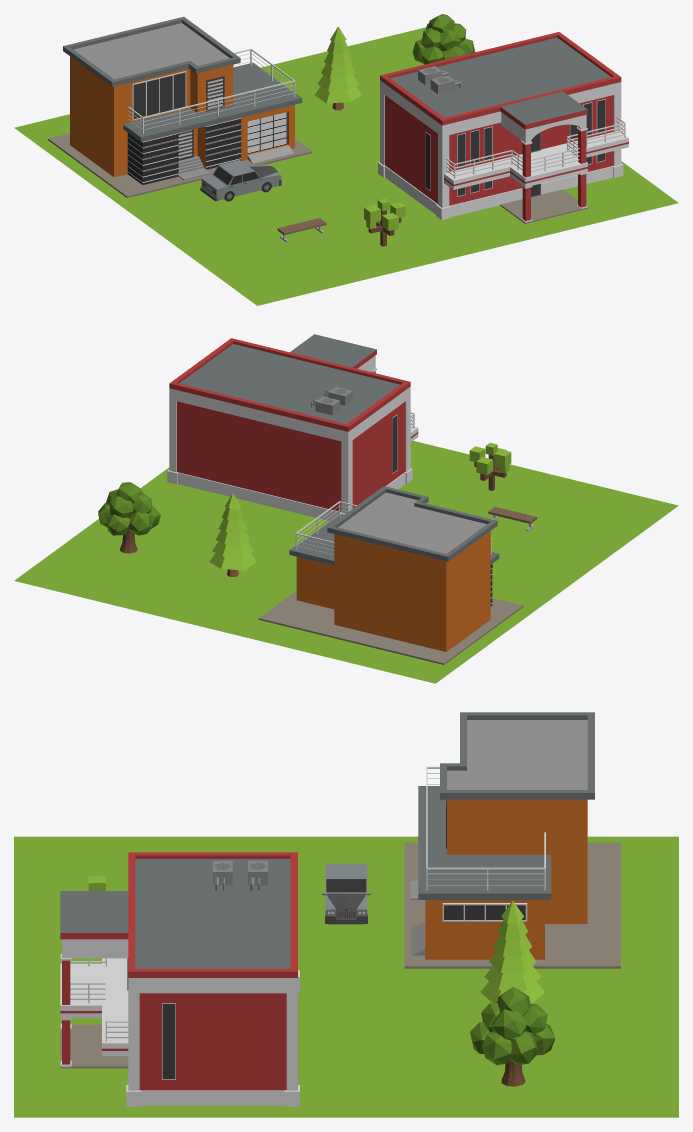
The model's file is remix-residential-court.glb.
3 renders of one model, top to bottom at view 1: azimuth 30°, elevation 25°; view 2: azimuth 150°, elevation 25°; view 3: azimuth 270°, elevation 25°, orthographic. The views are drawn at different scales.
Visible parts, largest first — view 1: Natures_Grass Tile_Plane.010, Building_House_03_color01_Cylinder.000, Building_House_02_color01_Cube.029, Vehicle_Car_Cube.050, Natures_Fir Tree_Cylinder.004, Natures_Big Tree_Mesh.008, Natures_Cube Tree_Cube.017, Props_Bench_1_Cube.023; view 2: Natures_Grass Tile_Plane.010, Building_House_03_color01_Cylinder.000, Building_House_02_color01_Cube.029, Natures_Big Tree_Mesh.008, Natures_Fir Tree_Cylinder.004, Natures_Cube Tree_Cube.017; view 3: Natures_Grass Tile_Plane.010, Building_House_03_color01_Cylinder.000, Building_House_02_color01_Cube.029, Natures_Big Tree_Mesh.008, Natures_Fir Tree_Cylinder.004, Vehicle_Car_Cube.050.
Part boxes in pixels (left/top/right/bottom): Natures_Grass Tile_Plane.010: left=14, top=27, right=678, bottom=305; Building_House_03_color01_Cylinder.000: left=378, top=32, right=628, bottom=223; Building_House_02_color01_Cube.029: left=48, top=16, right=312, bottom=197; Vehicle_Car_Cube.050: left=200, top=160, right=281, bottom=201; Natures_Fir Tree_Cylinder.004: left=315, top=26, right=361, bottom=110; Natures_Big Tree_Mesh.008: left=412, top=14, right=475, bottom=64; Natures_Cube Tree_Cube.017: left=364, top=198, right=405, bottom=246; Props_Bench_1_Cube.023: left=277, top=218, right=326, bottom=242; Natures_Grass Tile_Plane.010: left=14, top=441, right=678, bottom=683; Building_House_03_color01_Cylinder.000: left=167, top=334, right=418, bottom=520; Building_House_02_color01_Cube.029: left=258, top=486, right=523, bottom=664; Natures_Big Tree_Mesh.008: left=98, top=482, right=160, bottom=553; Natures_Fir Tree_Cylinder.004: left=209, top=493, right=256, bottom=576; Natures_Cube Tree_Cube.017: left=469, top=442, right=511, bottom=490; Natures_Grass Tile_Plane.010: left=14, top=836, right=678, bottom=1117; Building_House_03_color01_Cylinder.000: left=60, top=852, right=299, bottom=1106; Building_House_02_color01_Cube.029: left=404, top=712, right=620, bottom=968; Natures_Big Tree_Mesh.008: left=470, top=986, right=555, bottom=1086; Natures_Fir Tree_Cylinder.004: left=480, top=901, right=544, bottom=1003; Vehicle_Car_Cube.050: left=322, top=863, right=370, bottom=924.
Bounding box in the file's own units: 40 × 9.61 × 40.
5 materials, 5 textured.
